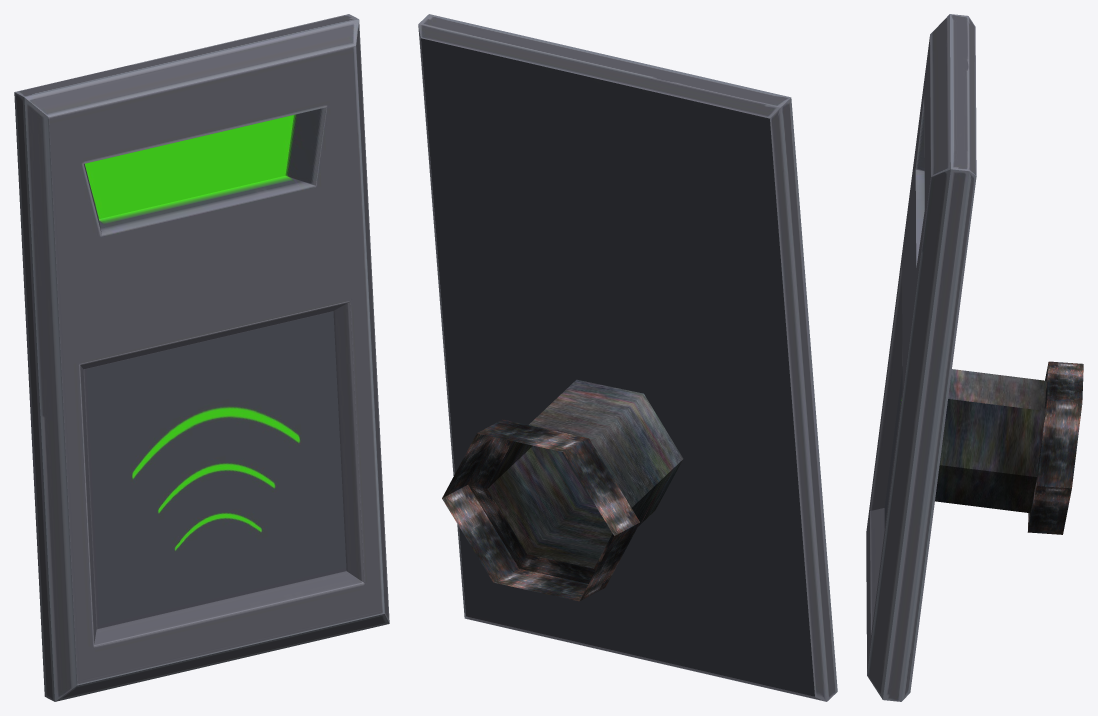
The model's file is Card Scanner.fbx.
3 renders of one model, left to right at view 1: azimuth 30°, elevation 25°; view 2: azimuth 150°, elevation 25°; view 3: azimuth 270°, elevation 25°, orthographic. The views are drawn at different scales.
Visible parts, largest first — view 1: Card_Scanner_Los_; view 2: Card_Scanner_Los_; view 3: Card_Scanner_Los_.
Part boxes in pixels (x1,y1,x2,y2): Card_Scanner_Los_: (14, 14, 389, 701); Card_Scanner_Los_: (418, 14, 837, 701); Card_Scanner_Los_: (866, 14, 1083, 701).
Bounding box in the file's own units: 20.89 × 34.02 × 12.44.
Materials: 2 (2 with a texture image).
